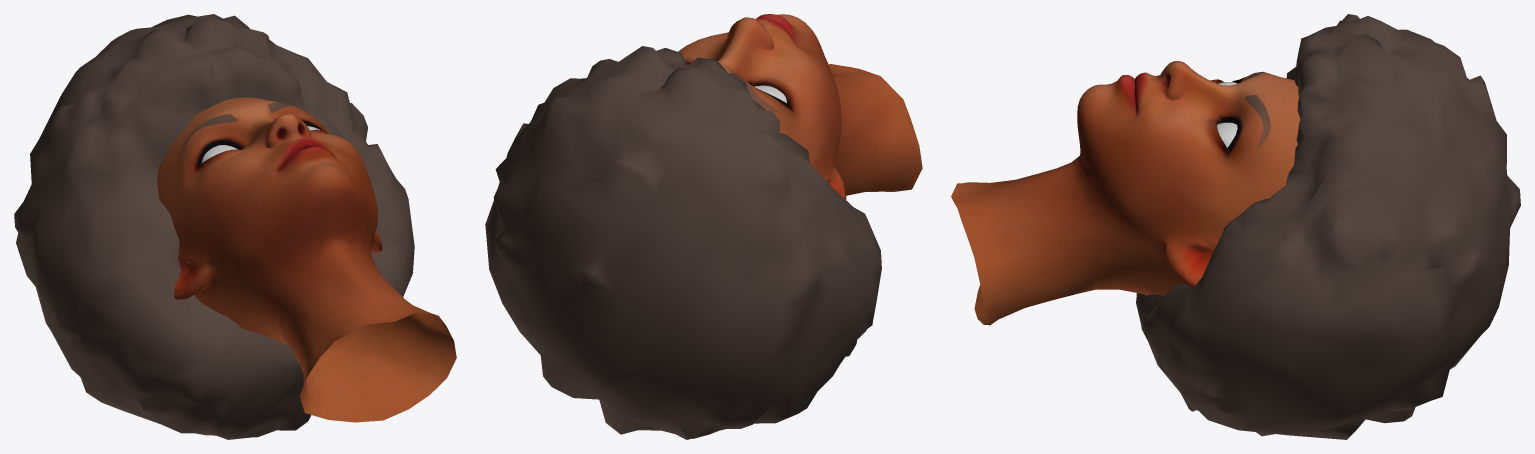
The model's file is Female_Brazil_Head.fbx.
3 views of the same model, side by side, from view 1: azimuth 30°, elevation 25°; view 2: azimuth 150°, elevation 25°; view 3: azimuth 270°, elevation 25° (orthographic). The views are drawn at different scales.
Parts seen in each view (by area): view 1: Wolf3D_Hair, Wolf3D_Head; view 2: Wolf3D_Hair, Wolf3D_Head; view 3: Wolf3D_Hair, Wolf3D_Head.
Part boxes in pixels (left/top/right/bottom): Wolf3D_Hair: left=14, top=14, right=414, bottom=439; Wolf3D_Head: left=157, top=97, right=456, bottom=422; Wolf3D_Hair: left=485, top=46, right=881, bottom=439; Wolf3D_Head: left=678, top=14, right=922, bottom=199; Wolf3D_Hair: left=1136, top=14, right=1520, bottom=439; Wolf3D_Head: left=951, top=61, right=1300, bottom=325.
Bounding box in the file's own units: 30.29 × 31.69 × 40.92.
